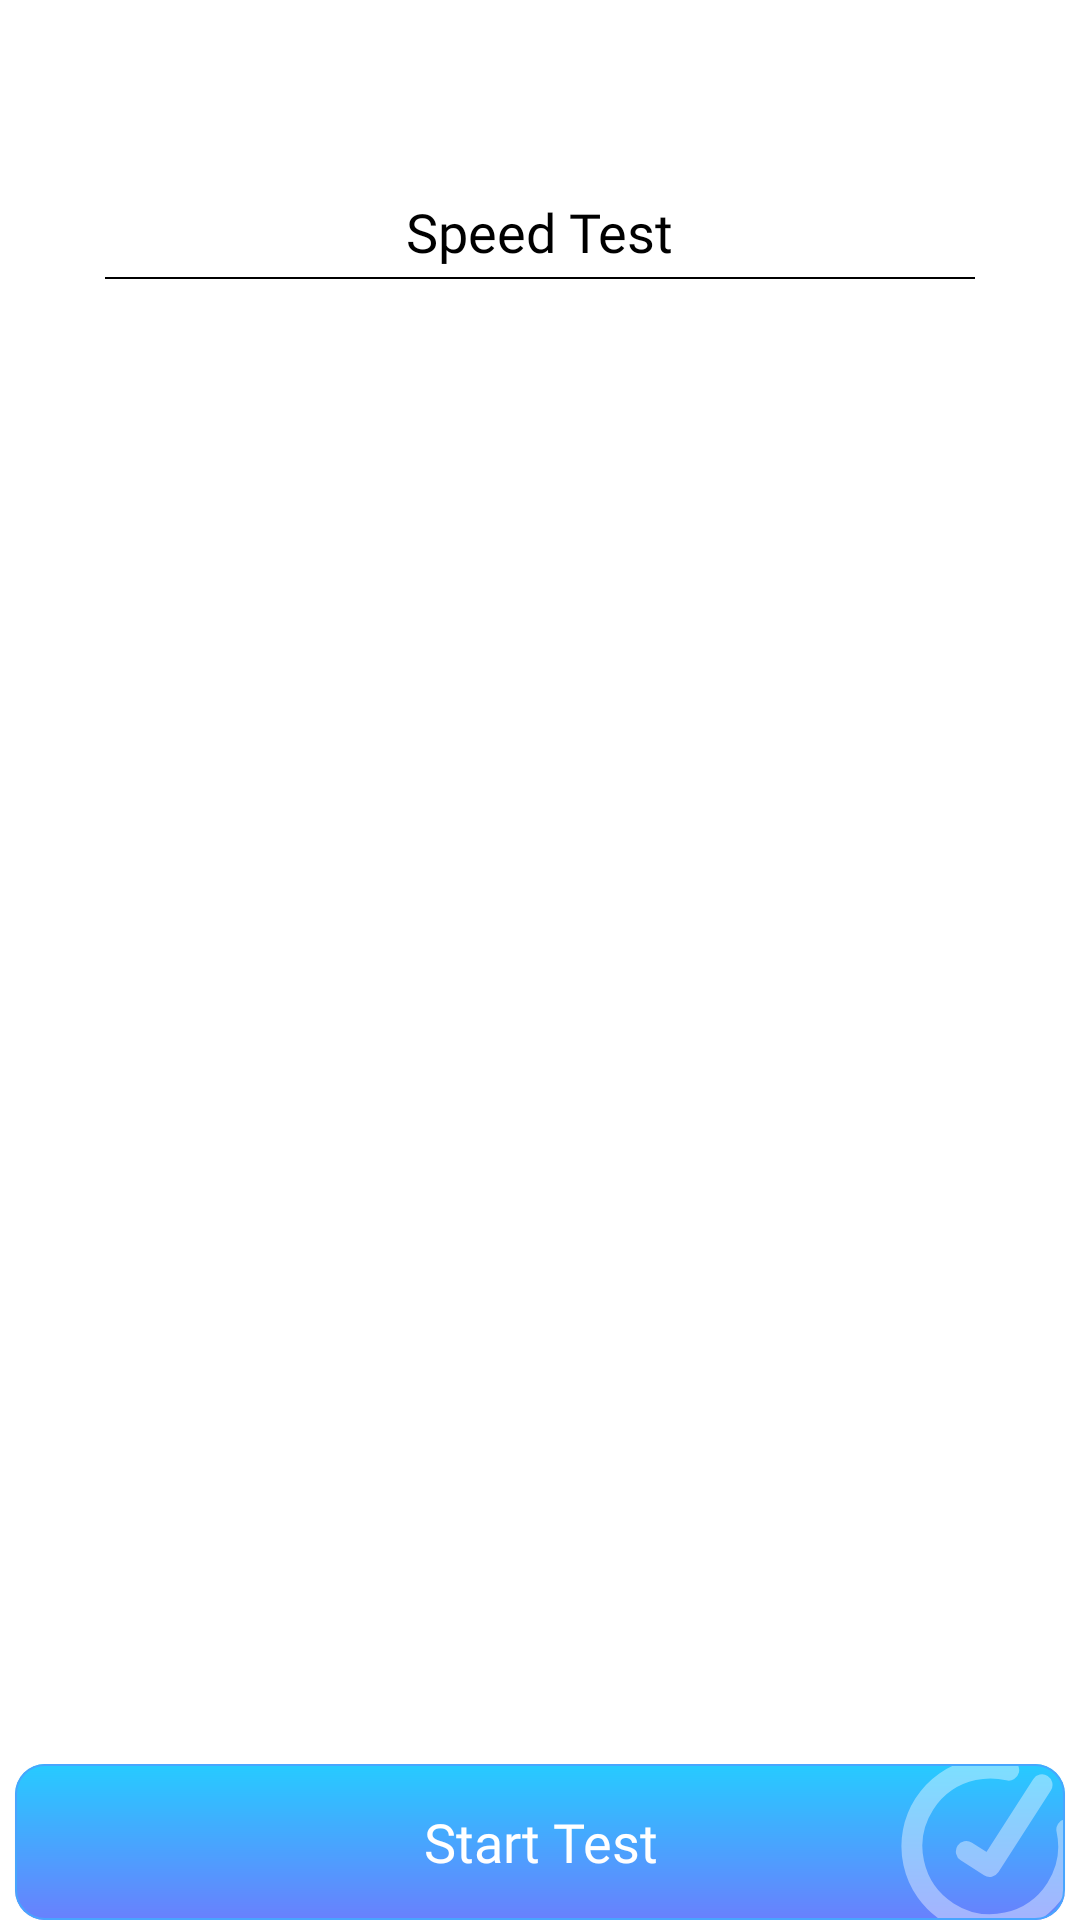

Point at icon controls on the screen. Image size 1080x1920, points as (x=x, y=y).
check: (x=981, y=1841)
